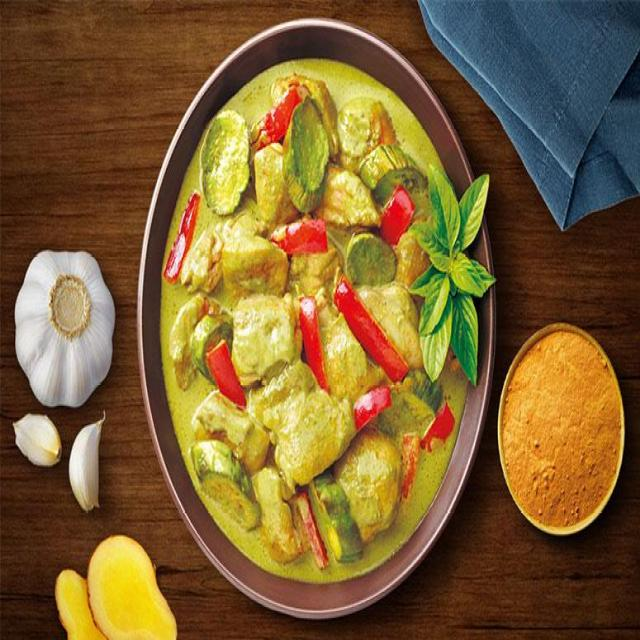chicken: (164, 80, 461, 586)
